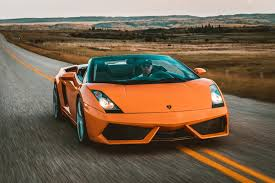car: (46, 53, 244, 155)
